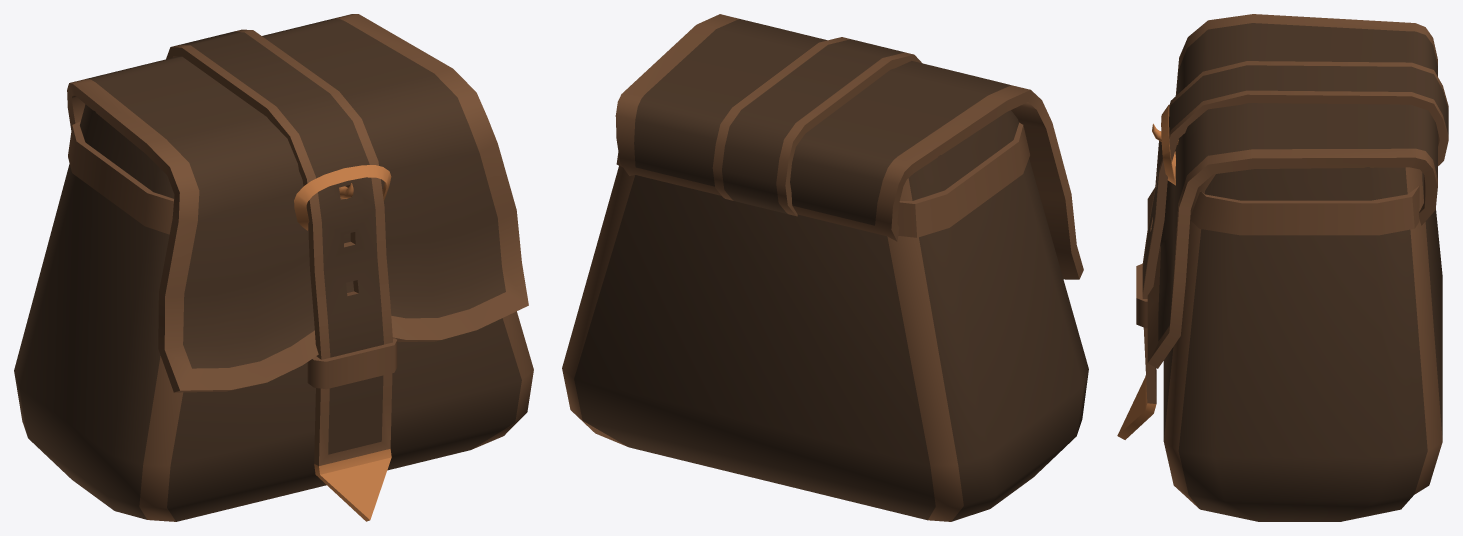
Rendered from HerbalistBag_01.fbx.
The picture shows the model from 3 angles, left to right: view 1: azimuth 30°, elevation 25°; view 2: azimuth 150°, elevation 25°; view 3: azimuth 270°, elevation 25°; orthographic projection. The views are drawn at different scales.
Visible parts, largest first — view 1: HerbalistBag_01; view 2: HerbalistBag_01; view 3: HerbalistBag_01.
Boxes of the visible parts, x1=… form: HerbalistBag_01: x1=14, y1=14, x2=533, y2=521; HerbalistBag_01: x1=562, y1=14, x2=1088, y2=521; HerbalistBag_01: x1=1117, y1=14, x2=1448, y2=521.
Size of the model in its own units: 0.3724 by 0.3314 by 0.2658.
